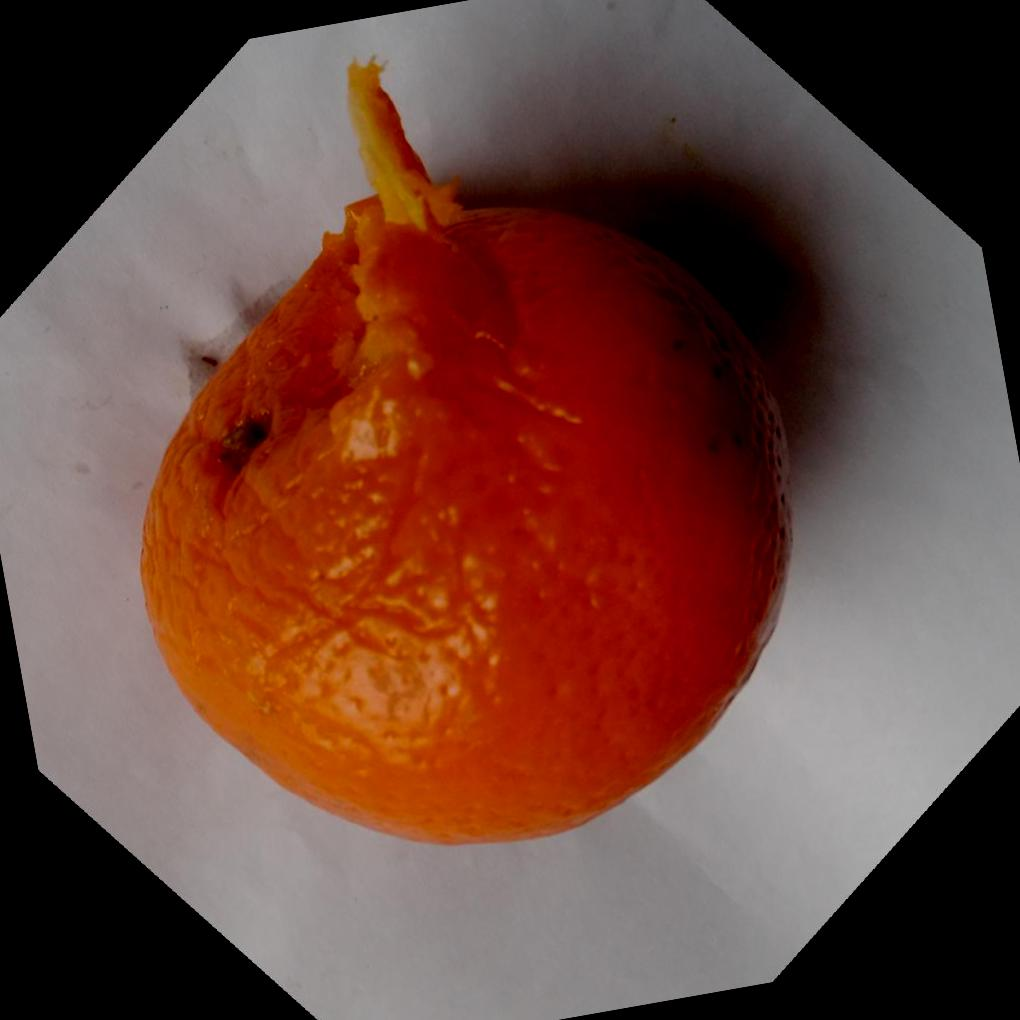FreshOrange: (138, 60, 793, 850)
